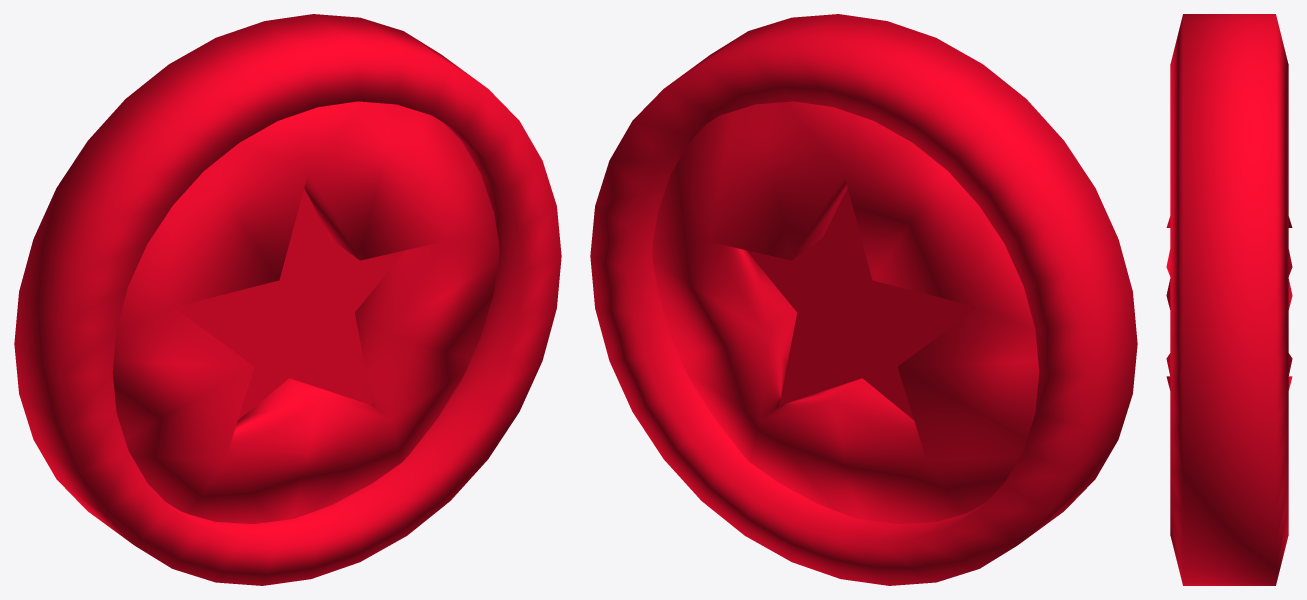
Rendered from redcoin.glb.
The picture shows the model from 3 angles, left to right: view 1: azimuth 30°, elevation 25°; view 2: azimuth 150°, elevation 25°; view 3: azimuth 270°, elevation 25°; orthographic projection.
Visible parts, largest first — view 1: redcoin; view 2: redcoin; view 3: redcoin.
Boxes of the visible parts, left/top/right/bottom form: redcoin: left=14, top=14, right=561, bottom=585; redcoin: left=590, top=14, right=1137, bottom=585; redcoin: left=1166, top=14, right=1292, bottom=585.
Size of the model in its own units: 44.98 by 44.98 by 9.9.
